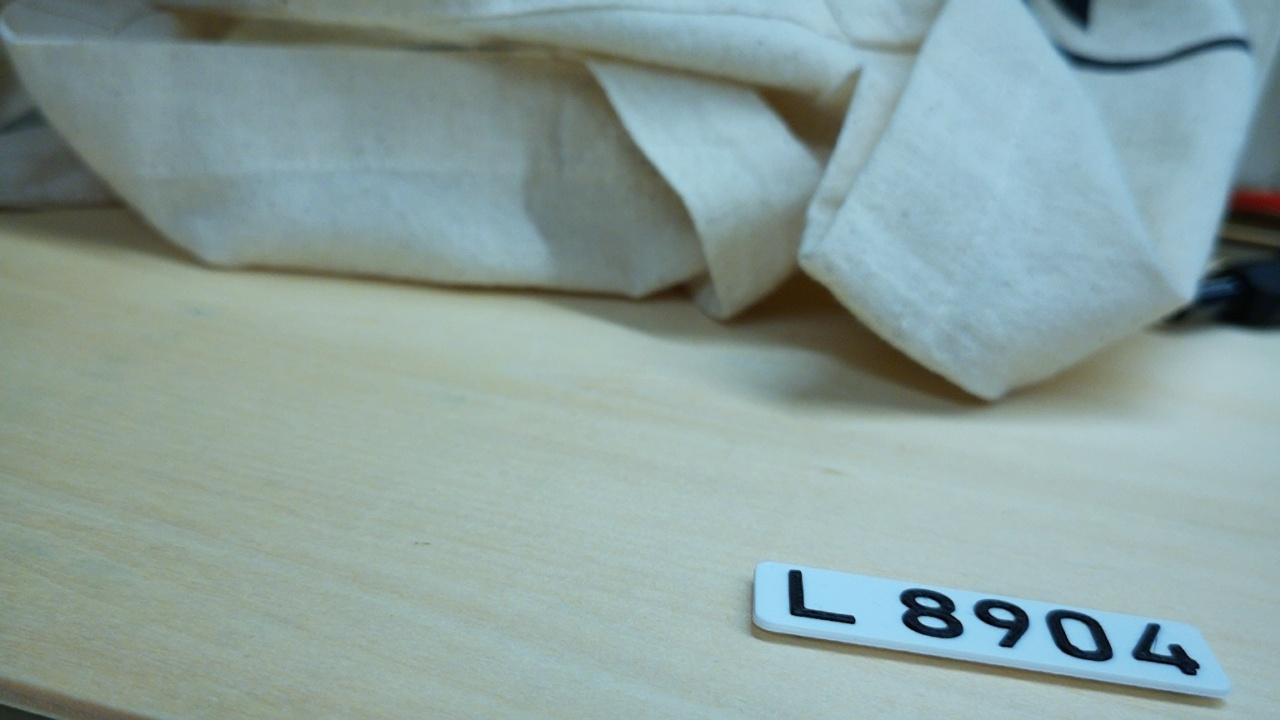license_plate: (747, 557, 1233, 704)
